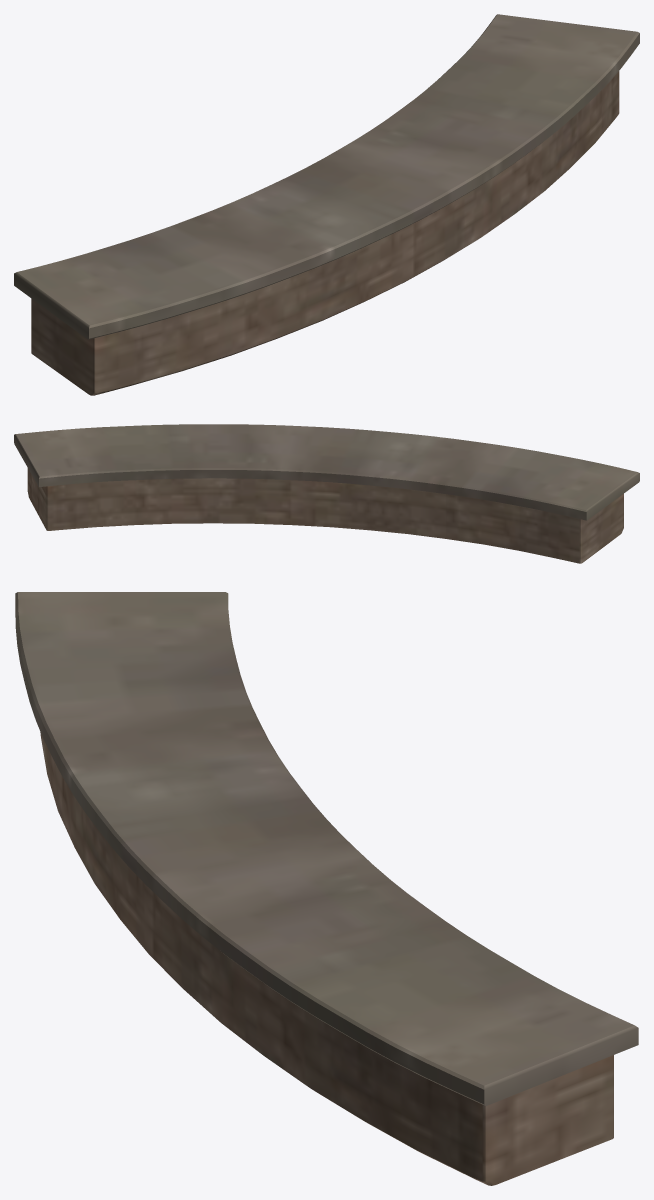
Rendered from bench.glb.
3 views of the same model, one above another, from view 1: azimuth 30°, elevation 25°; view 2: azimuth 150°, elevation 25°; view 3: azimuth 270°, elevation 25° (orthographic). The views are drawn at different scales.
Parts seen in each view (by area): view 1: body; view 2: body; view 3: body.
Part boxes in pixels (x1=…): body: x1=14, y1=14, x2=639, y2=395; body: x1=14, y1=424, x2=639, y2=563; body: x1=15, y1=592, x2=638, y2=1185.
Bounding box in the file's own units: 4.09 × 0.4419 × 2.17.
Materials: 1 (1 with a texture image).
